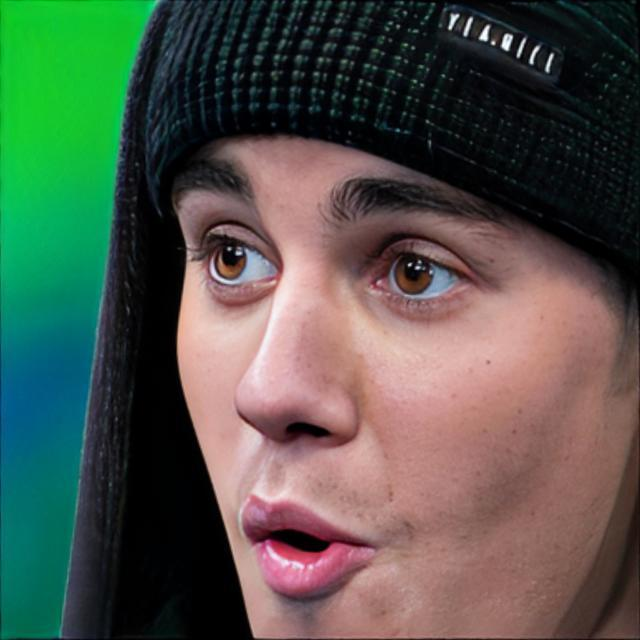surprise: (167, 126, 640, 640)
